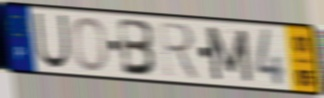4: (253, 27, 288, 89)
B: (117, 16, 159, 78)
M: (204, 24, 255, 84)
O: (71, 15, 110, 73)
R: (157, 19, 203, 83)
U: (32, 11, 72, 71)
